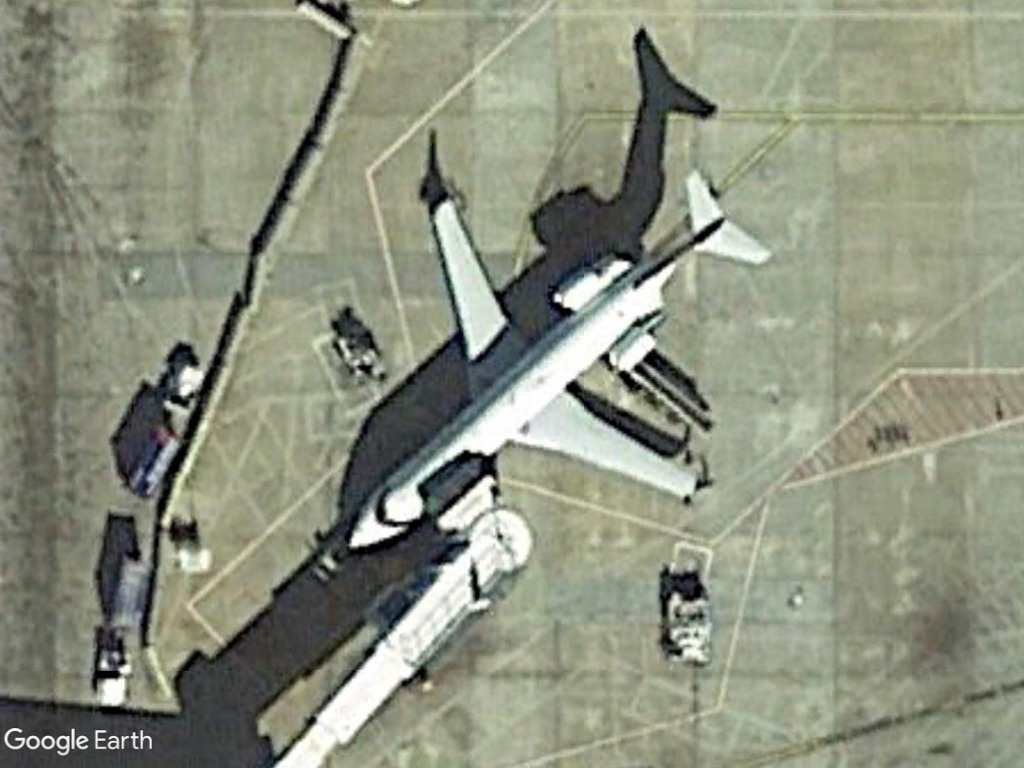chartered: (346, 162, 790, 565)
